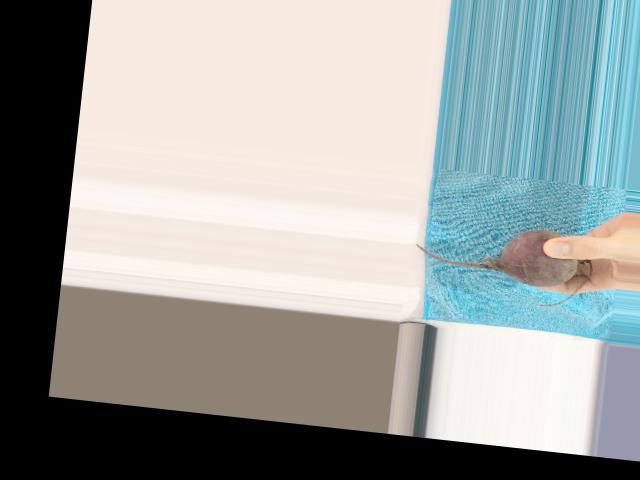beet: (409, 215, 595, 309)
